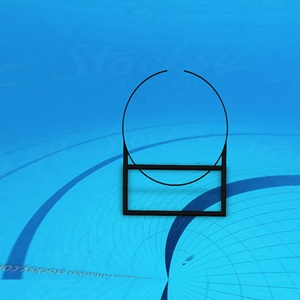circle: (119, 70, 232, 221)
